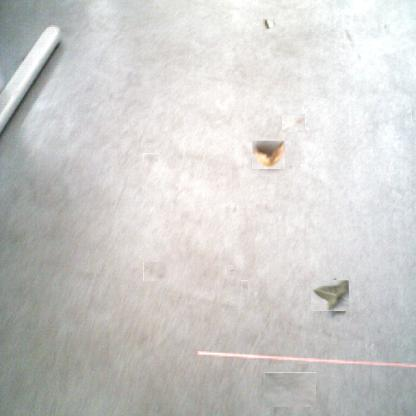dirty: (312, 277, 348, 313), (251, 140, 285, 169), (281, 115, 305, 132), (263, 19, 274, 29)
mark: (269, 368, 312, 412), (143, 261, 166, 281), (344, 29, 353, 44), (145, 152, 156, 163), (240, 280, 248, 293), (227, 266, 235, 275), (411, 110, 416, 122), (382, 23, 390, 30)
